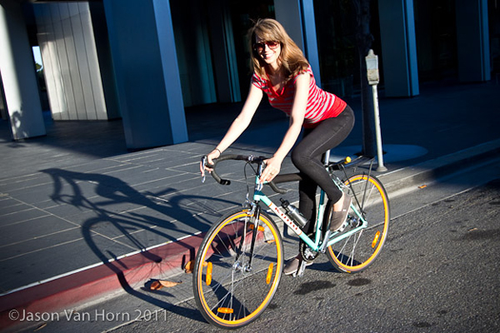bikerider: (176, 16, 413, 322)
